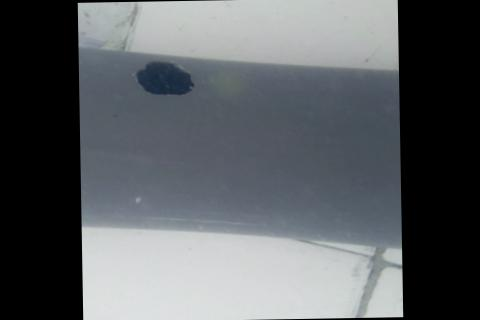kebocoran: (131, 57, 194, 98)
